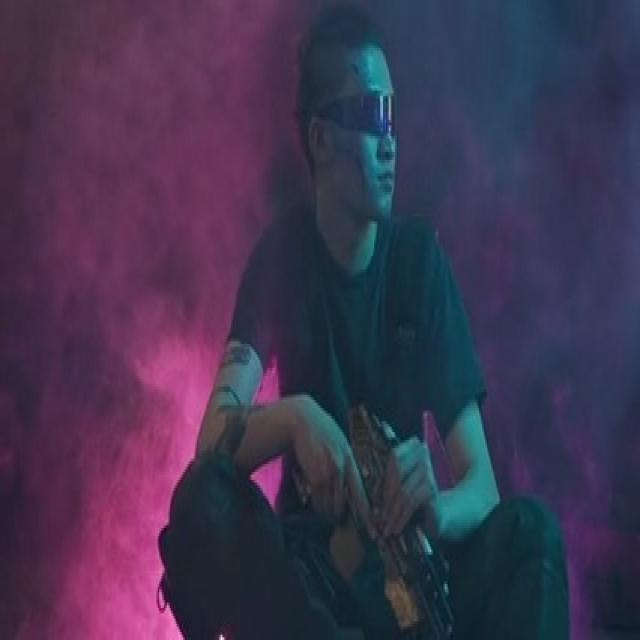Gun_Holder: (296, 397, 476, 640)
Person: (157, 0, 568, 640)
